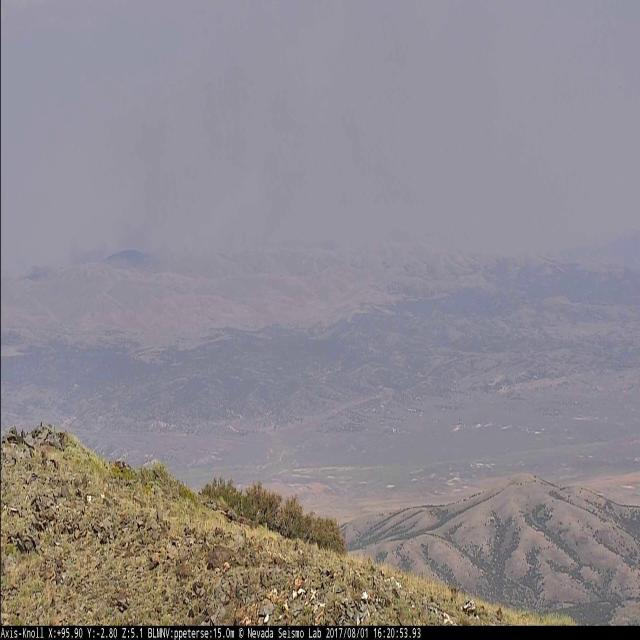smoke: (49, 74, 413, 266)
